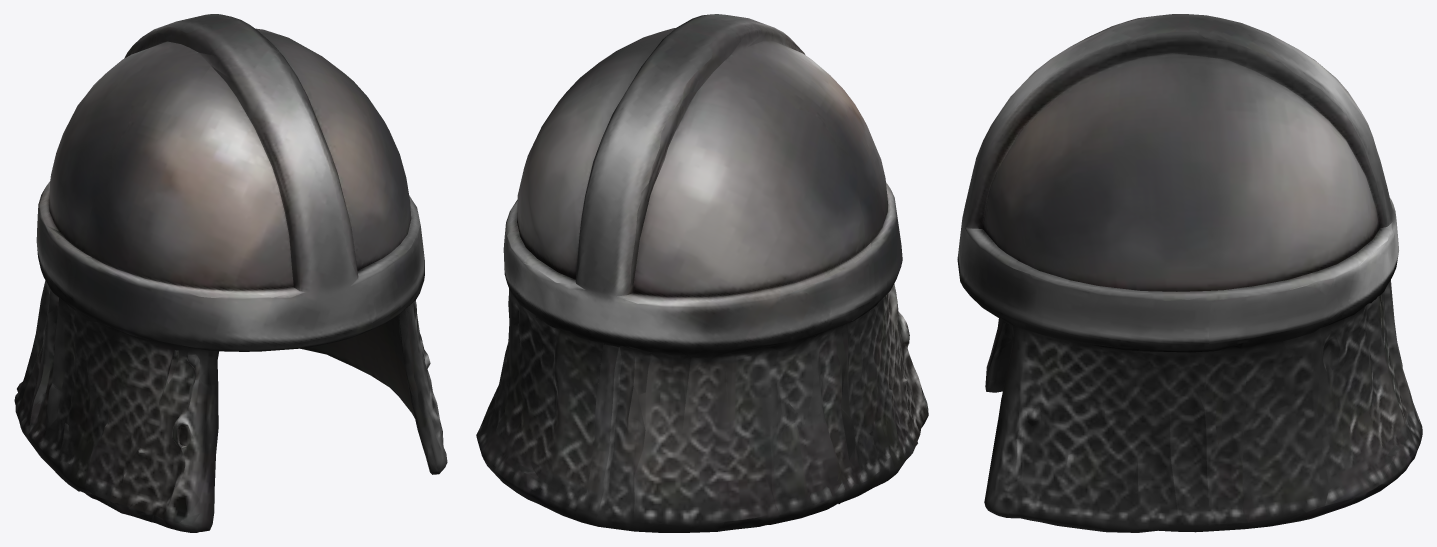
The model's file is militia_cap.glb.
3 views of the same model, side by side, from view 1: azimuth 30°, elevation 25°; view 2: azimuth 150°, elevation 25°; view 3: azimuth 270°, elevation 25° (orthographic). The views are drawn at different scales.
Parts seen in each view (by area): view 1: world; view 2: world; view 3: world.
Part boxes in pixels (x1,y1,x2,y2): world: [14, 14, 447, 532]; world: [476, 14, 928, 532]; world: [957, 14, 1422, 532].
Bounding box in the file's own units: 0.2563 × 0.2876 × 0.2797.
Materials: 1 (1 with a texture image).
